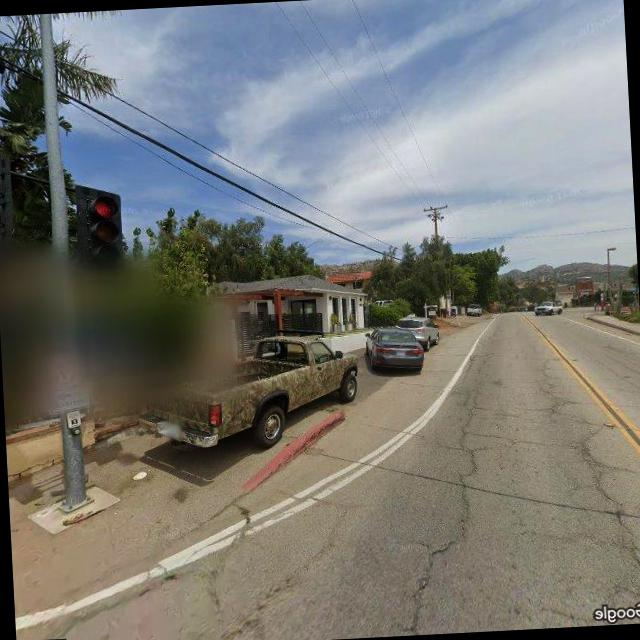crack: (371, 372, 640, 634)
